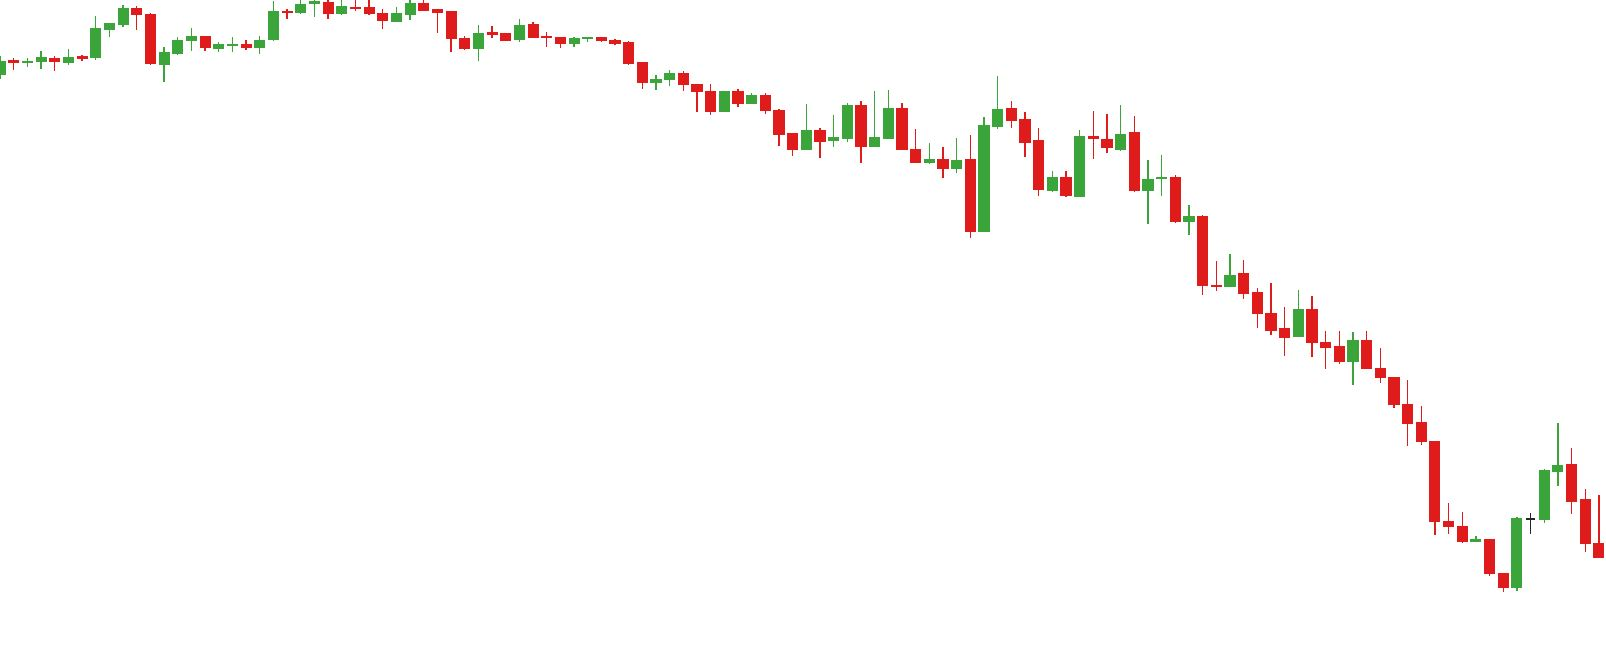sell: (880, 77, 1019, 187)
